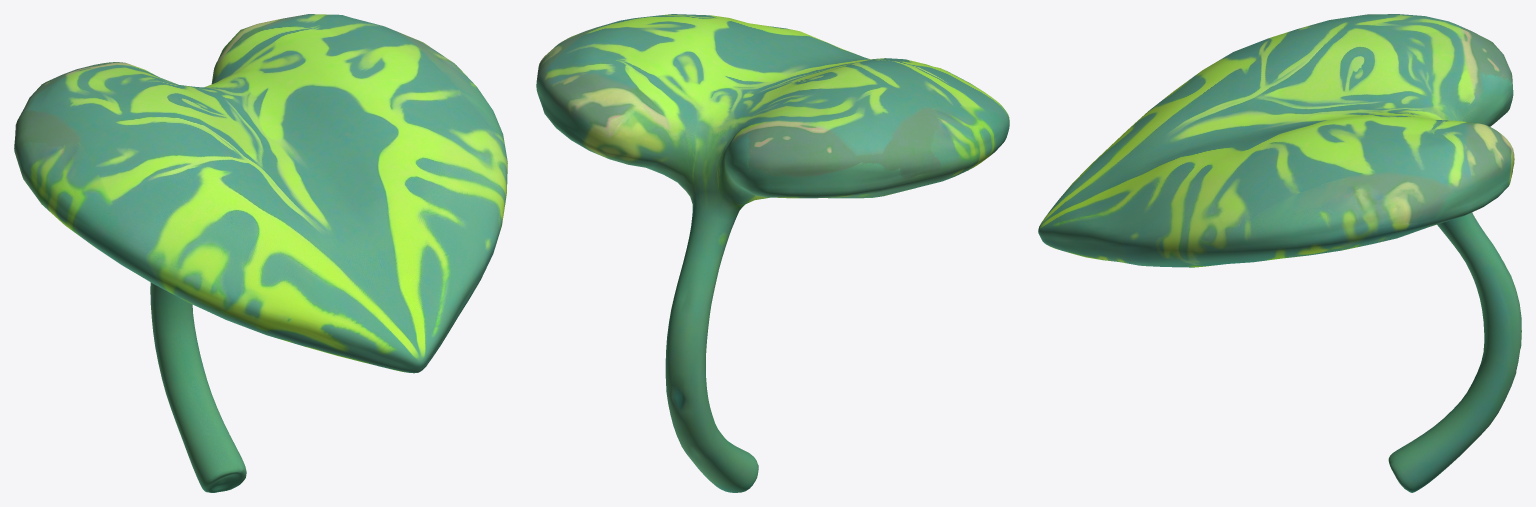
The model's file is pothos_marble_greenyellow_v1.glb.
3 views of the same model, side by side, from view 1: azimuth 30°, elevation 25°; view 2: azimuth 150°, elevation 25°; view 3: azimuth 270°, elevation 25° (orthographic). The views are drawn at different scales.
Visible parts, largest first — view 1: world; view 2: world; view 3: world.
Boxes of the visible parts, <box> form: world: <box>14,14,507,492</box>; world: <box>536,14,1009,492</box>; world: <box>1038,14,1521,492</box>.
Bounding box in the file's own units: 1.93 × 1.86 × 2.
1 material, 1 textured.
